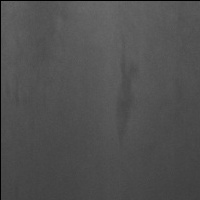inclusion: (106, 33, 145, 147)
